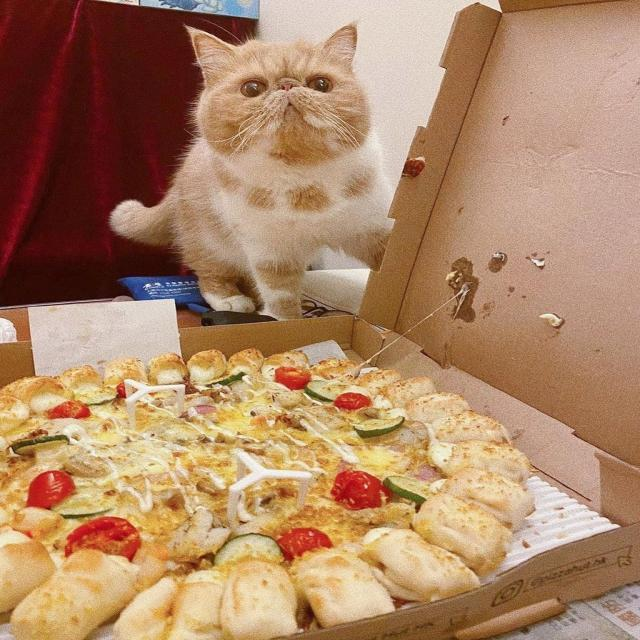cat: (91, 1, 408, 324)
